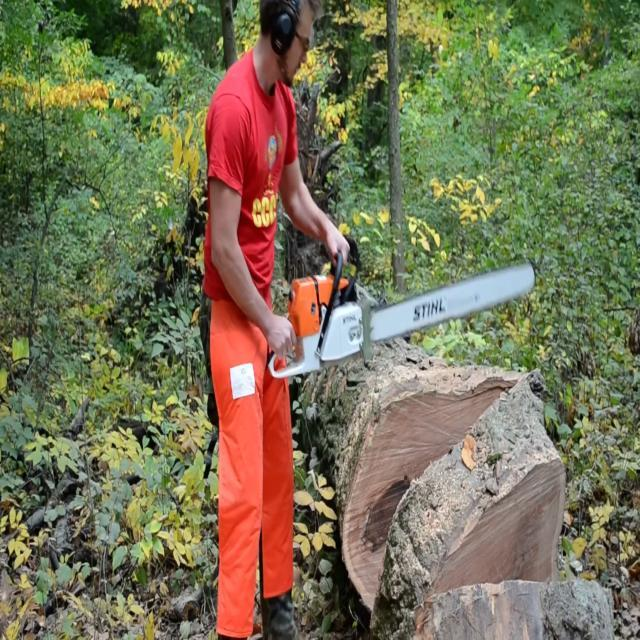Chainsaw: (258, 196, 542, 391)
